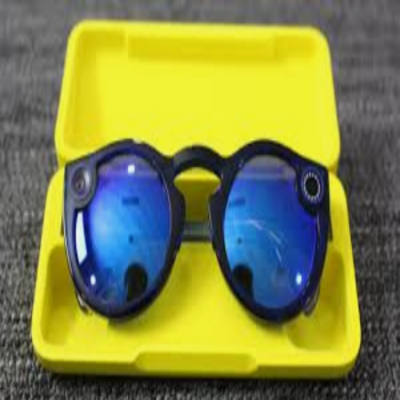glasses: (58, 135, 333, 323)
